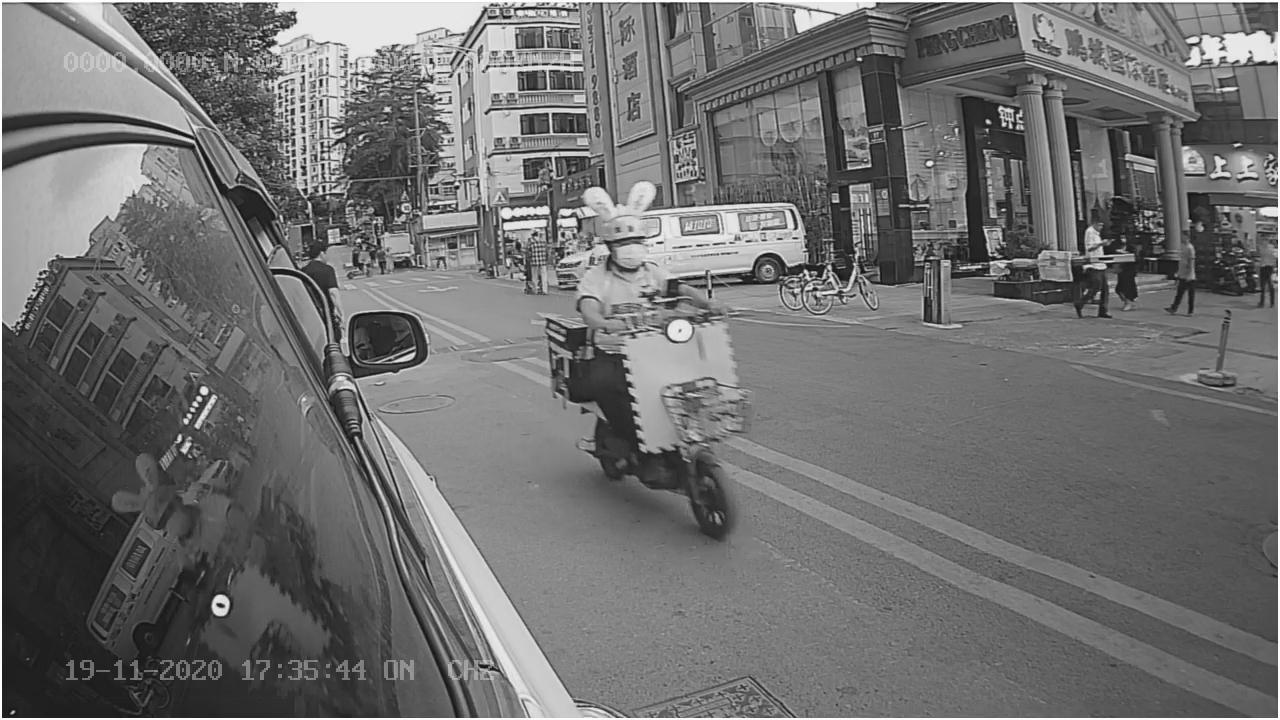person: (567, 164, 705, 329)
